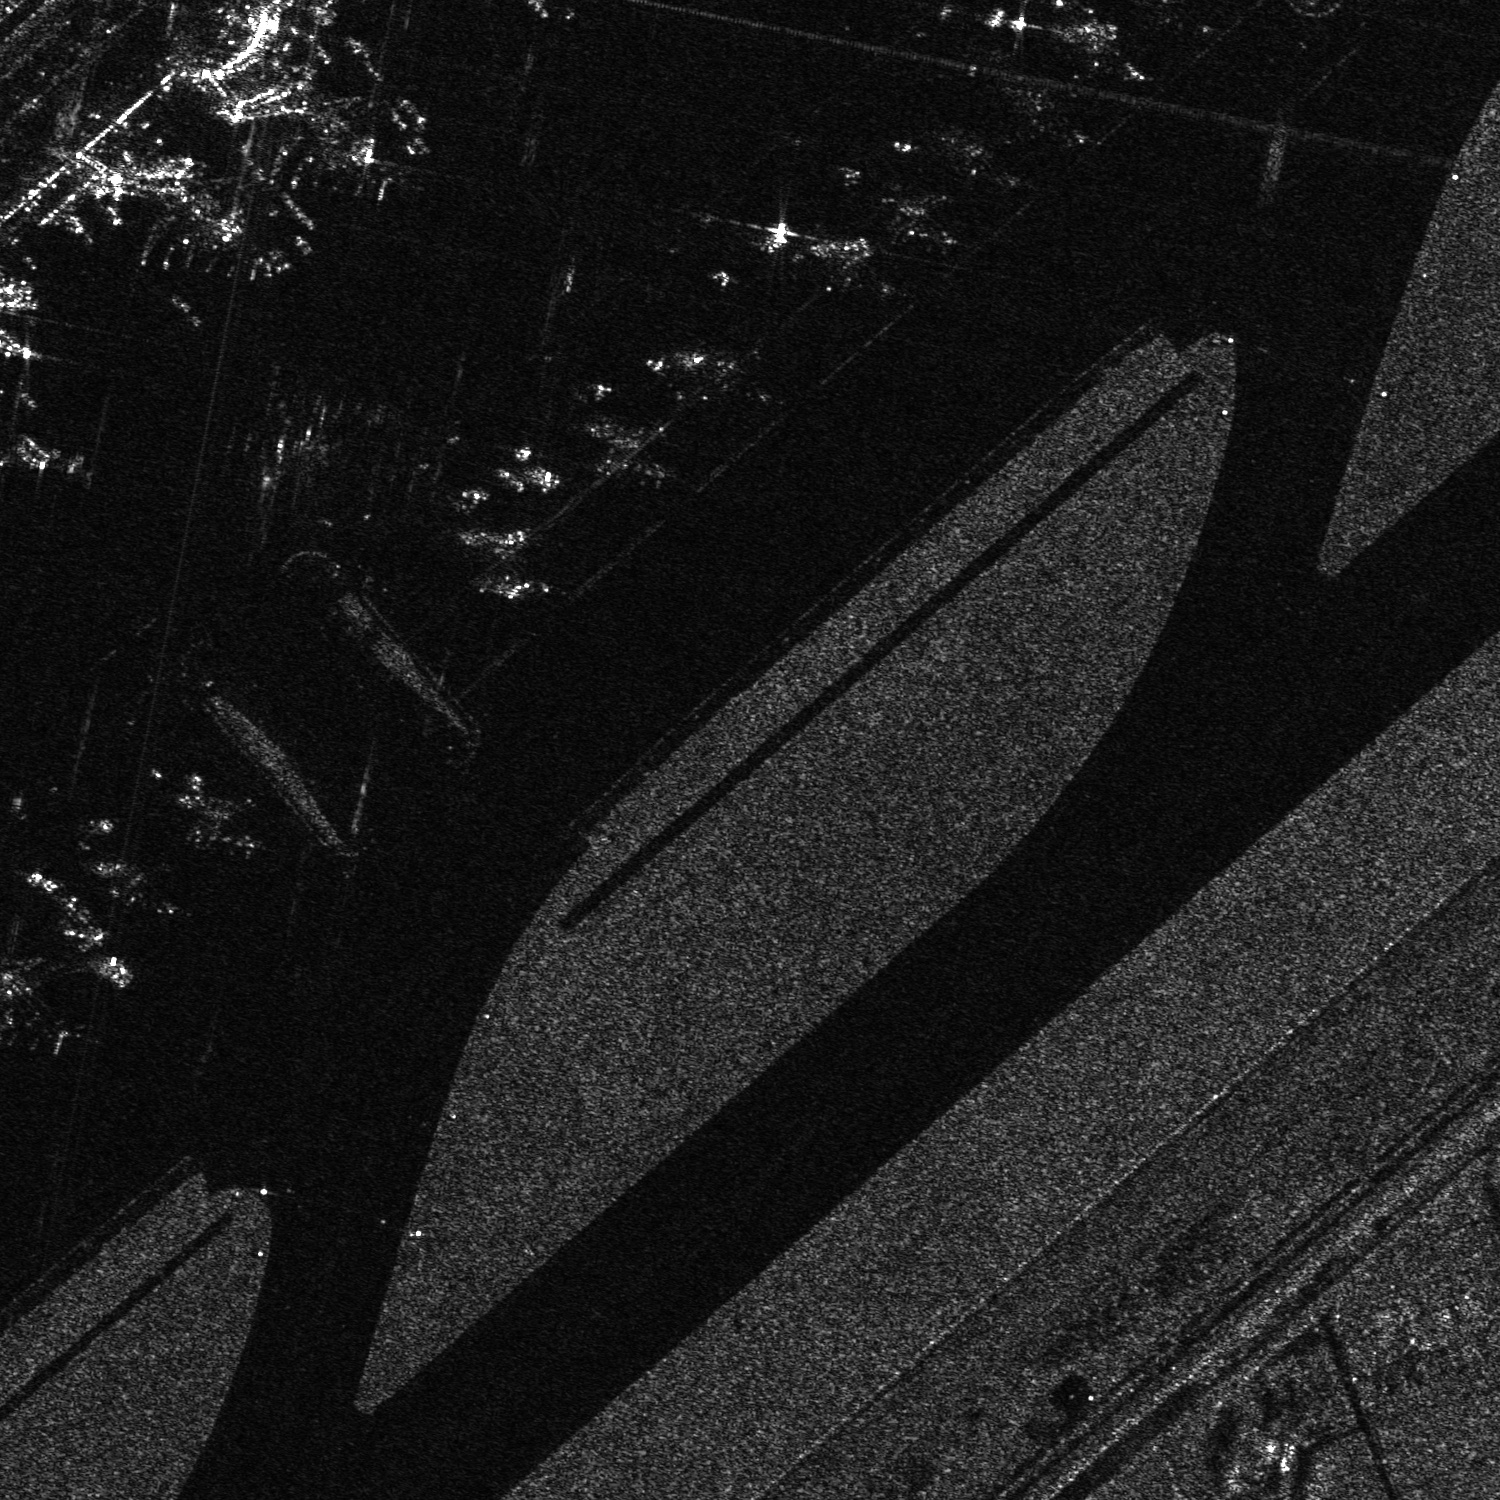Boeing737: (135, 174, 295, 286), (273, 88, 422, 196), (585, 413, 694, 501), (990, 69, 1098, 155), (661, 341, 783, 416), (942, 122, 1041, 205), (181, 769, 268, 857), (812, 238, 907, 310), (98, 852, 181, 922), (887, 184, 957, 254)
